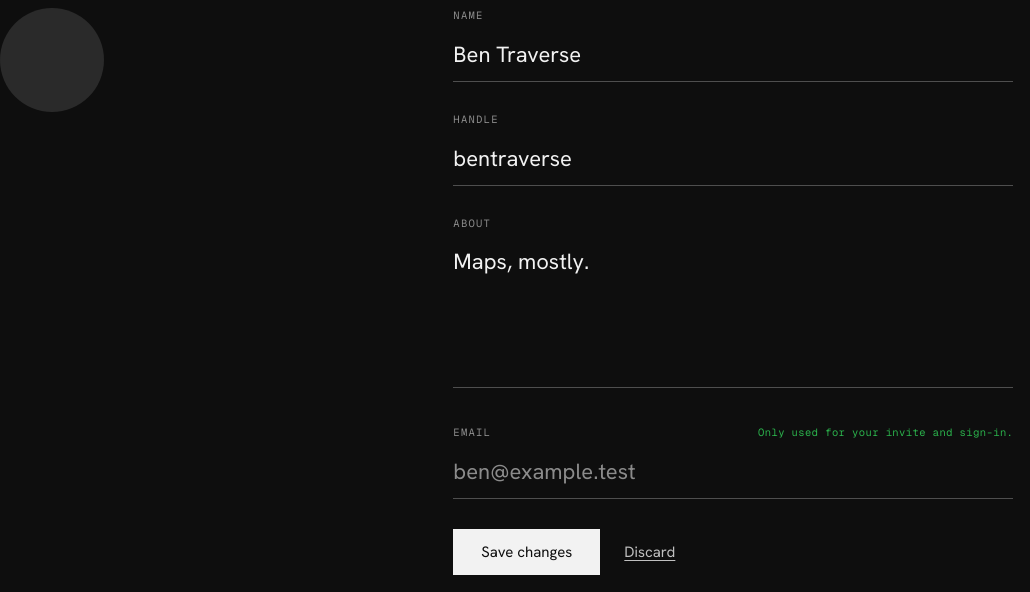
Test: ProfileEditScreen › clears a stale conflict as soon as the handle is edited
This screenshot has width=1030, height=592.
Click the button "Save changes" at (527, 552), box [453,529,600,575]
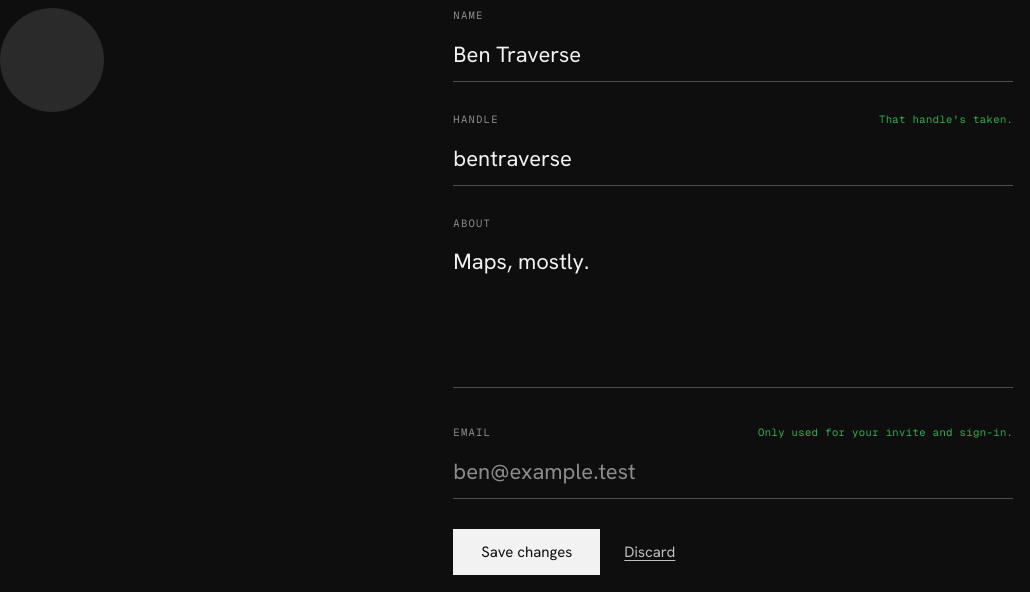
Replace the text in the field labelled "Handle" with "somethingelse" at (733, 158), box [453,132,1013,186]
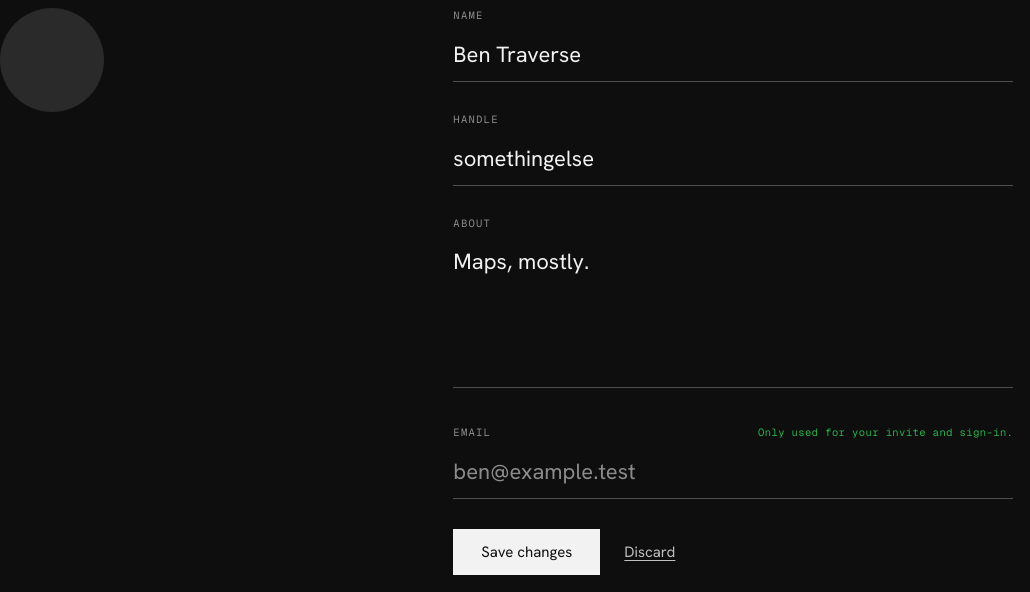
Now the message "That handle's taken." is gone
